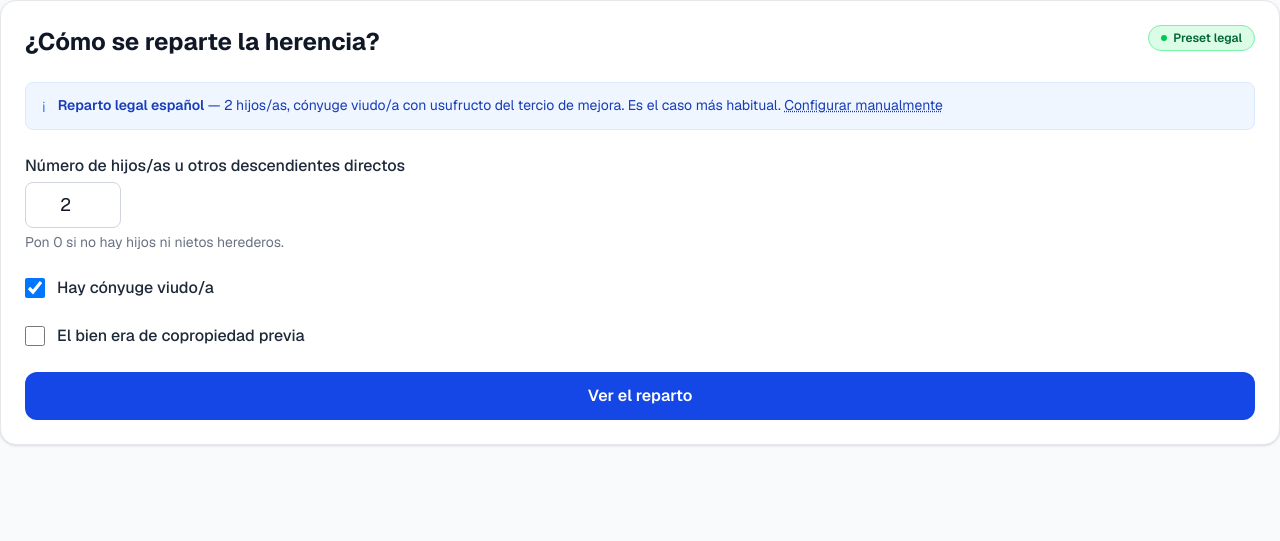
Scenario: SimulatorForm › shows copropiedad input when checkbox is checked
Click the checkbox labelled "El bien era de copropiedad previa".
click(35, 336)  # box [25, 326, 45, 346]
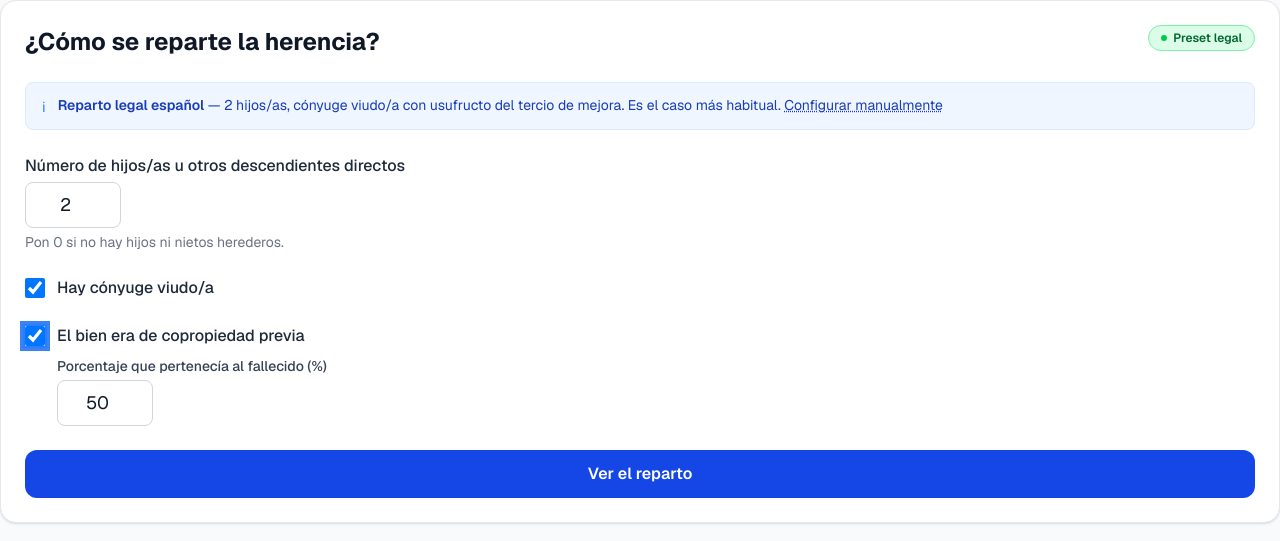
Check: the number field labelled "Porcentaje que pertenecía al fallecido (%)" is shown, box [57, 380, 153, 426]
